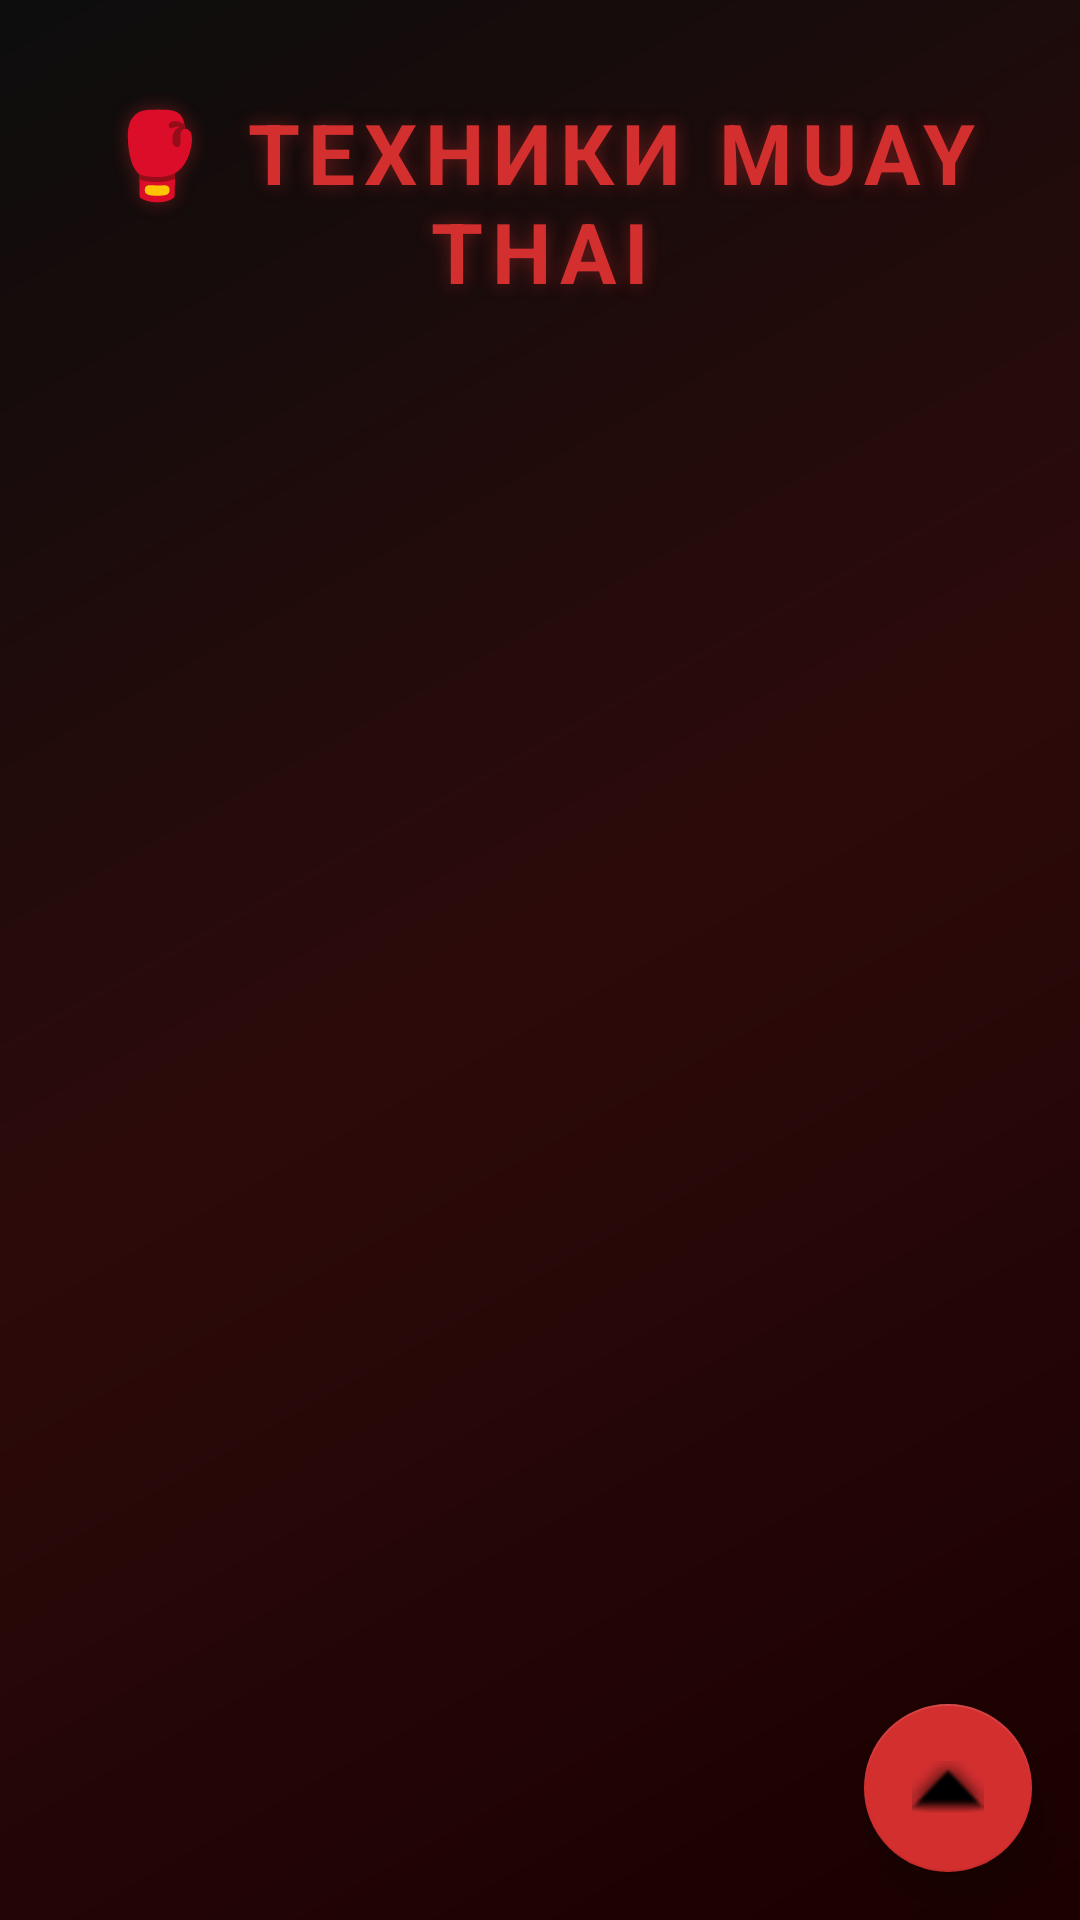

Named icons in this screenshot (1080 x 1920) and their centers, (x,y):
arrow up float: (948,1788)
